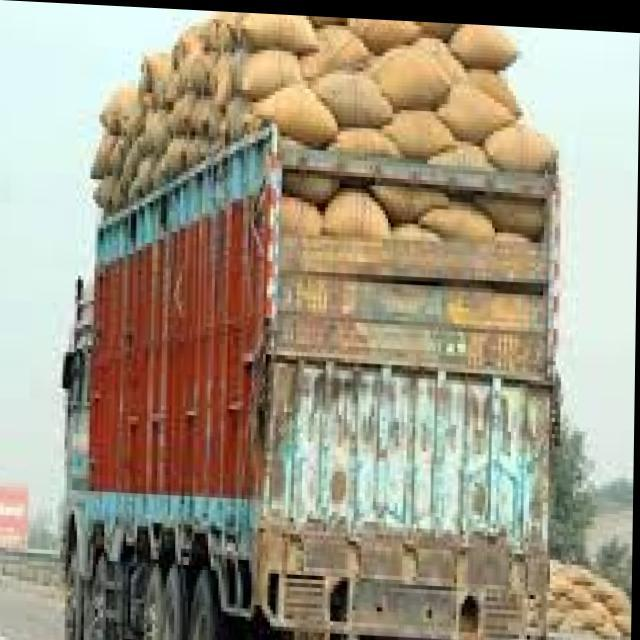uncovered: (62, 3, 574, 640)
